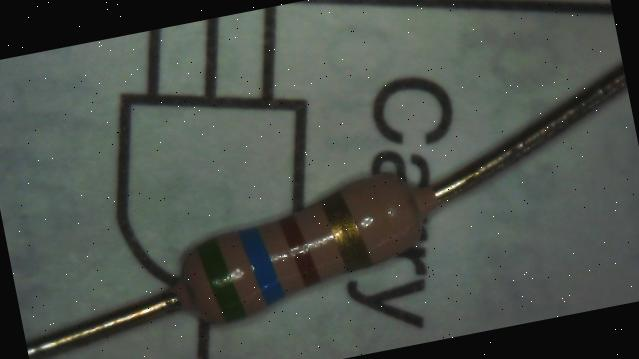blue: (240, 225, 286, 306)
brown: (280, 214, 318, 286)
gold: (320, 187, 371, 272)
green: (196, 235, 246, 324)
resistor: (149, 148, 449, 359)
